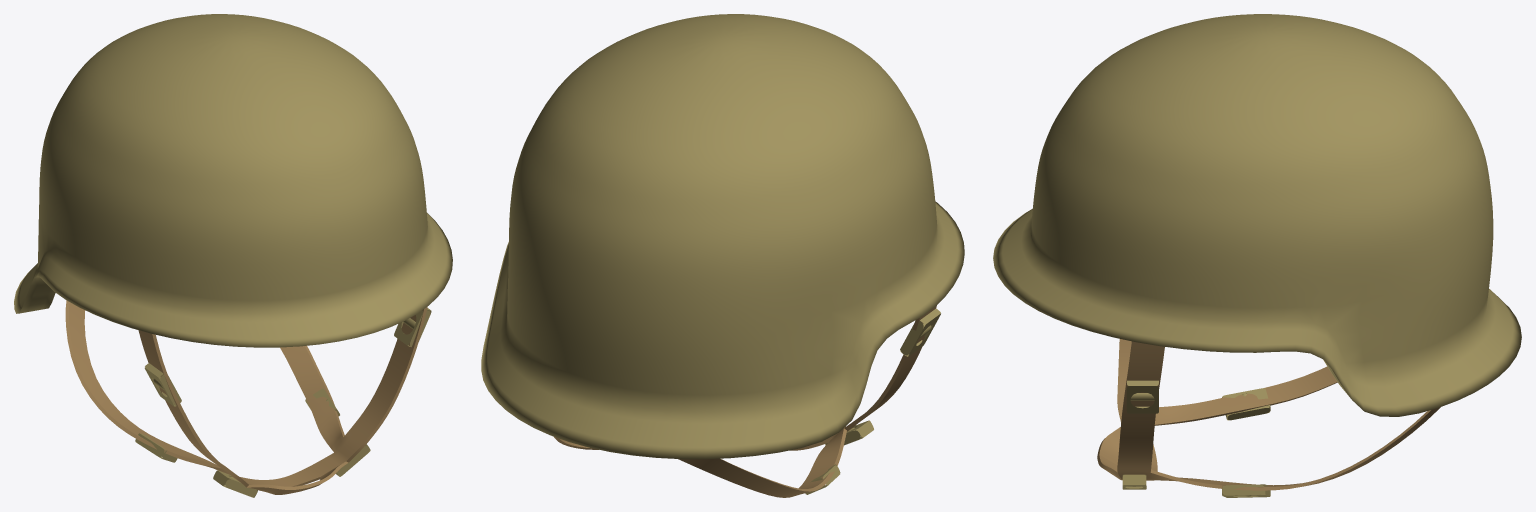
Rendered from ModernMilitaryHelmet.fbx.
3 views of the same model, side by side, from view 1: azimuth 30°, elevation 25°; view 2: azimuth 150°, elevation 25°; view 3: azimuth 270°, elevation 25° (orthographic). The views are drawn at different scales.
Visible parts, largest first — view 1: Circle, Cube; view 2: Circle, Cube; view 3: Circle, Cube.
Part boxes in pixels (x1,y1,x2,y2): Circle: (14, 14, 452, 347); Cube: (65, 300, 431, 497); Circle: (481, 14, 964, 459); Cube: (554, 305, 940, 497); Circle: (993, 14, 1521, 416); Cube: (1097, 339, 1440, 497).
Bounding box in the file's own units: 188 × 203 × 222.
